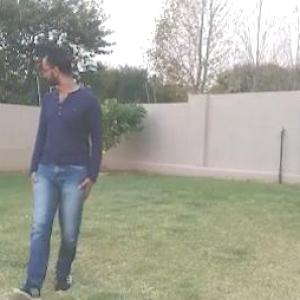follow: (29, 40, 94, 293)
